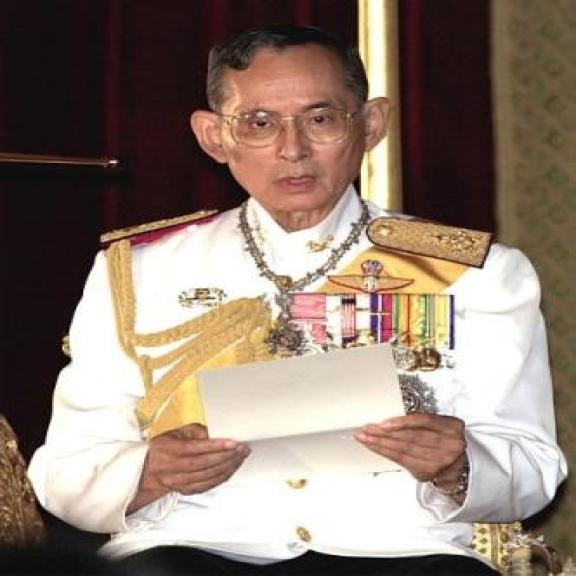face: (191, 51, 394, 216)
